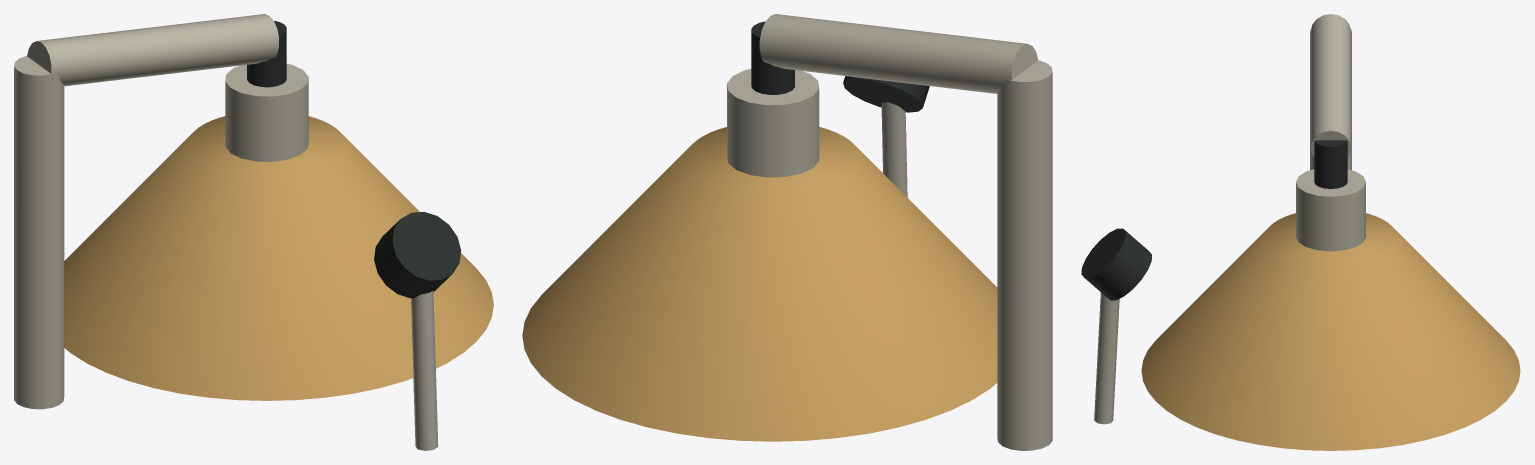
File: Courier.glb
The picture shows the model from 3 angles, left to right: view 1: azimuth 30°, elevation 25°; view 2: azimuth 150°, elevation 25°; view 3: azimuth 270°, elevation 25°; orthographic projection. The views are drawn at different scales.
Visible parts, largest first — view 1: Bell skirt, Suspension yoke, Hanger, Crown, Clapper, Striker spring, Suspension pin; view 2: Bell skirt, Suspension yoke, Hanger, Crown, Striker spring, Clapper, Suspension pin; view 3: Bell skirt, Hanger, Crown, Clapper, Striker spring, Suspension pin.
Part boxes in pixels (x1,y1,x2,y2): Bell skirt: [64, 116, 493, 400]; Suspension yoke: [14, 55, 64, 409]; Hanger: [27, 14, 278, 86]; Crown: [225, 63, 308, 161]; Clapper: [374, 212, 461, 298]; Striker spring: [411, 291, 438, 450]; Suspension pin: [247, 21, 286, 87]; Bell skirt: [522, 127, 997, 441]; Suspension yoke: [997, 60, 1052, 450]; Hanger: [759, 14, 1038, 93]; Crown: [727, 69, 819, 177]; Striker spring: [881, 102, 907, 197]; Clapper: [843, 76, 929, 112]; Suspension pin: [751, 21, 794, 94]; Bell skirt: [1141, 213, 1520, 450]; Hanger: [1310, 14, 1351, 156]; Crown: [1296, 169, 1365, 251]; Clapper: [1081, 228, 1151, 300]; Striker spring: [1094, 292, 1119, 424]; Suspension pin: [1314, 140, 1347, 188].
Bounding box in the file's own units: 0.4897 × 0.3834 × 0.4997.
